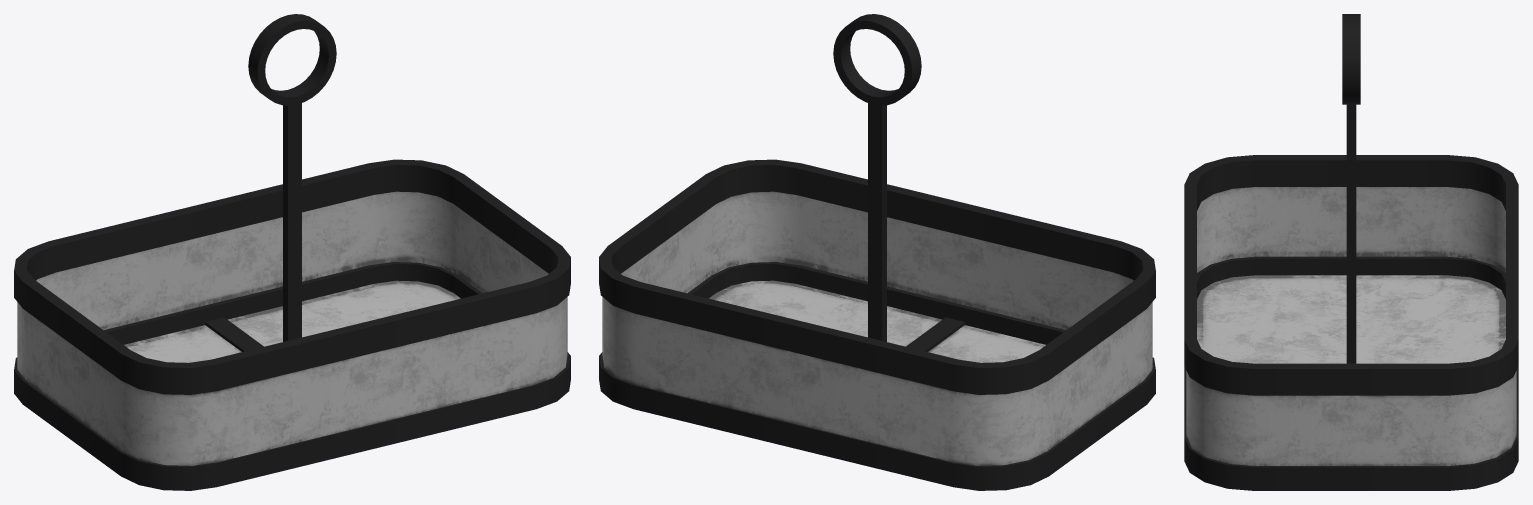
File: TMM_Holder.fbx
3 views of the same model, side by side, from view 1: azimuth 30°, elevation 25°; view 2: azimuth 150°, elevation 25°; view 3: azimuth 270°, elevation 25° (orthographic).
Visible parts, largest first — view 1: TMM_Holder; view 2: TMM_Holder; view 3: TMM_Holder.
Boxes of the visible parts, box(x1,y1,x2,y2) form: TMM_Holder: box(14, 14, 570, 490); TMM_Holder: box(599, 14, 1155, 490); TMM_Holder: box(1184, 14, 1518, 490).
Size of the model in its own units: 40.45 by 32.26 by 26.7.
